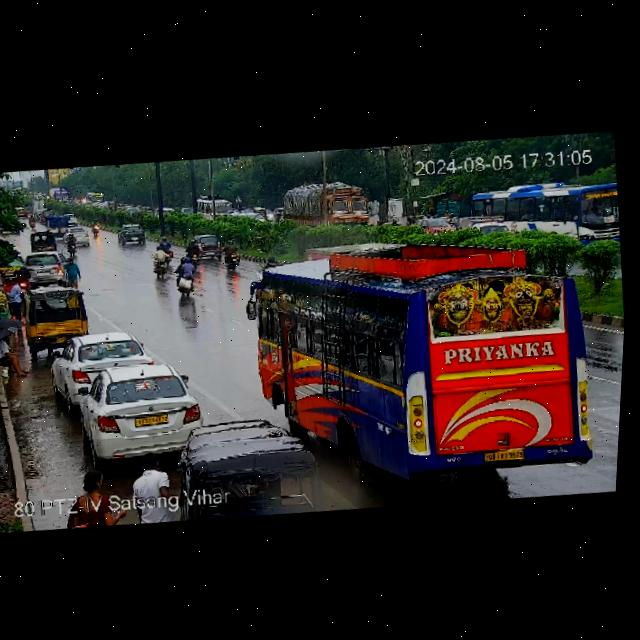bus: (235, 211, 615, 499), (470, 163, 623, 257), (196, 192, 231, 221)
car: (179, 413, 326, 525), (73, 355, 207, 465), (48, 326, 149, 400), (21, 283, 91, 350), (21, 250, 77, 290), (116, 221, 150, 245), (193, 229, 222, 256), (29, 228, 59, 250), (65, 225, 92, 249), (68, 211, 79, 225)
motorcycle: (174, 251, 198, 295), (219, 237, 242, 274), (151, 245, 172, 278), (62, 231, 82, 257), (187, 238, 203, 264), (159, 235, 174, 259), (88, 218, 102, 236), (28, 212, 36, 230)
person: (125, 450, 177, 521), (67, 469, 120, 528), (0, 331, 35, 382), (0, 276, 29, 319), (63, 255, 81, 285)
truck: (281, 179, 371, 231), (46, 211, 70, 237)
